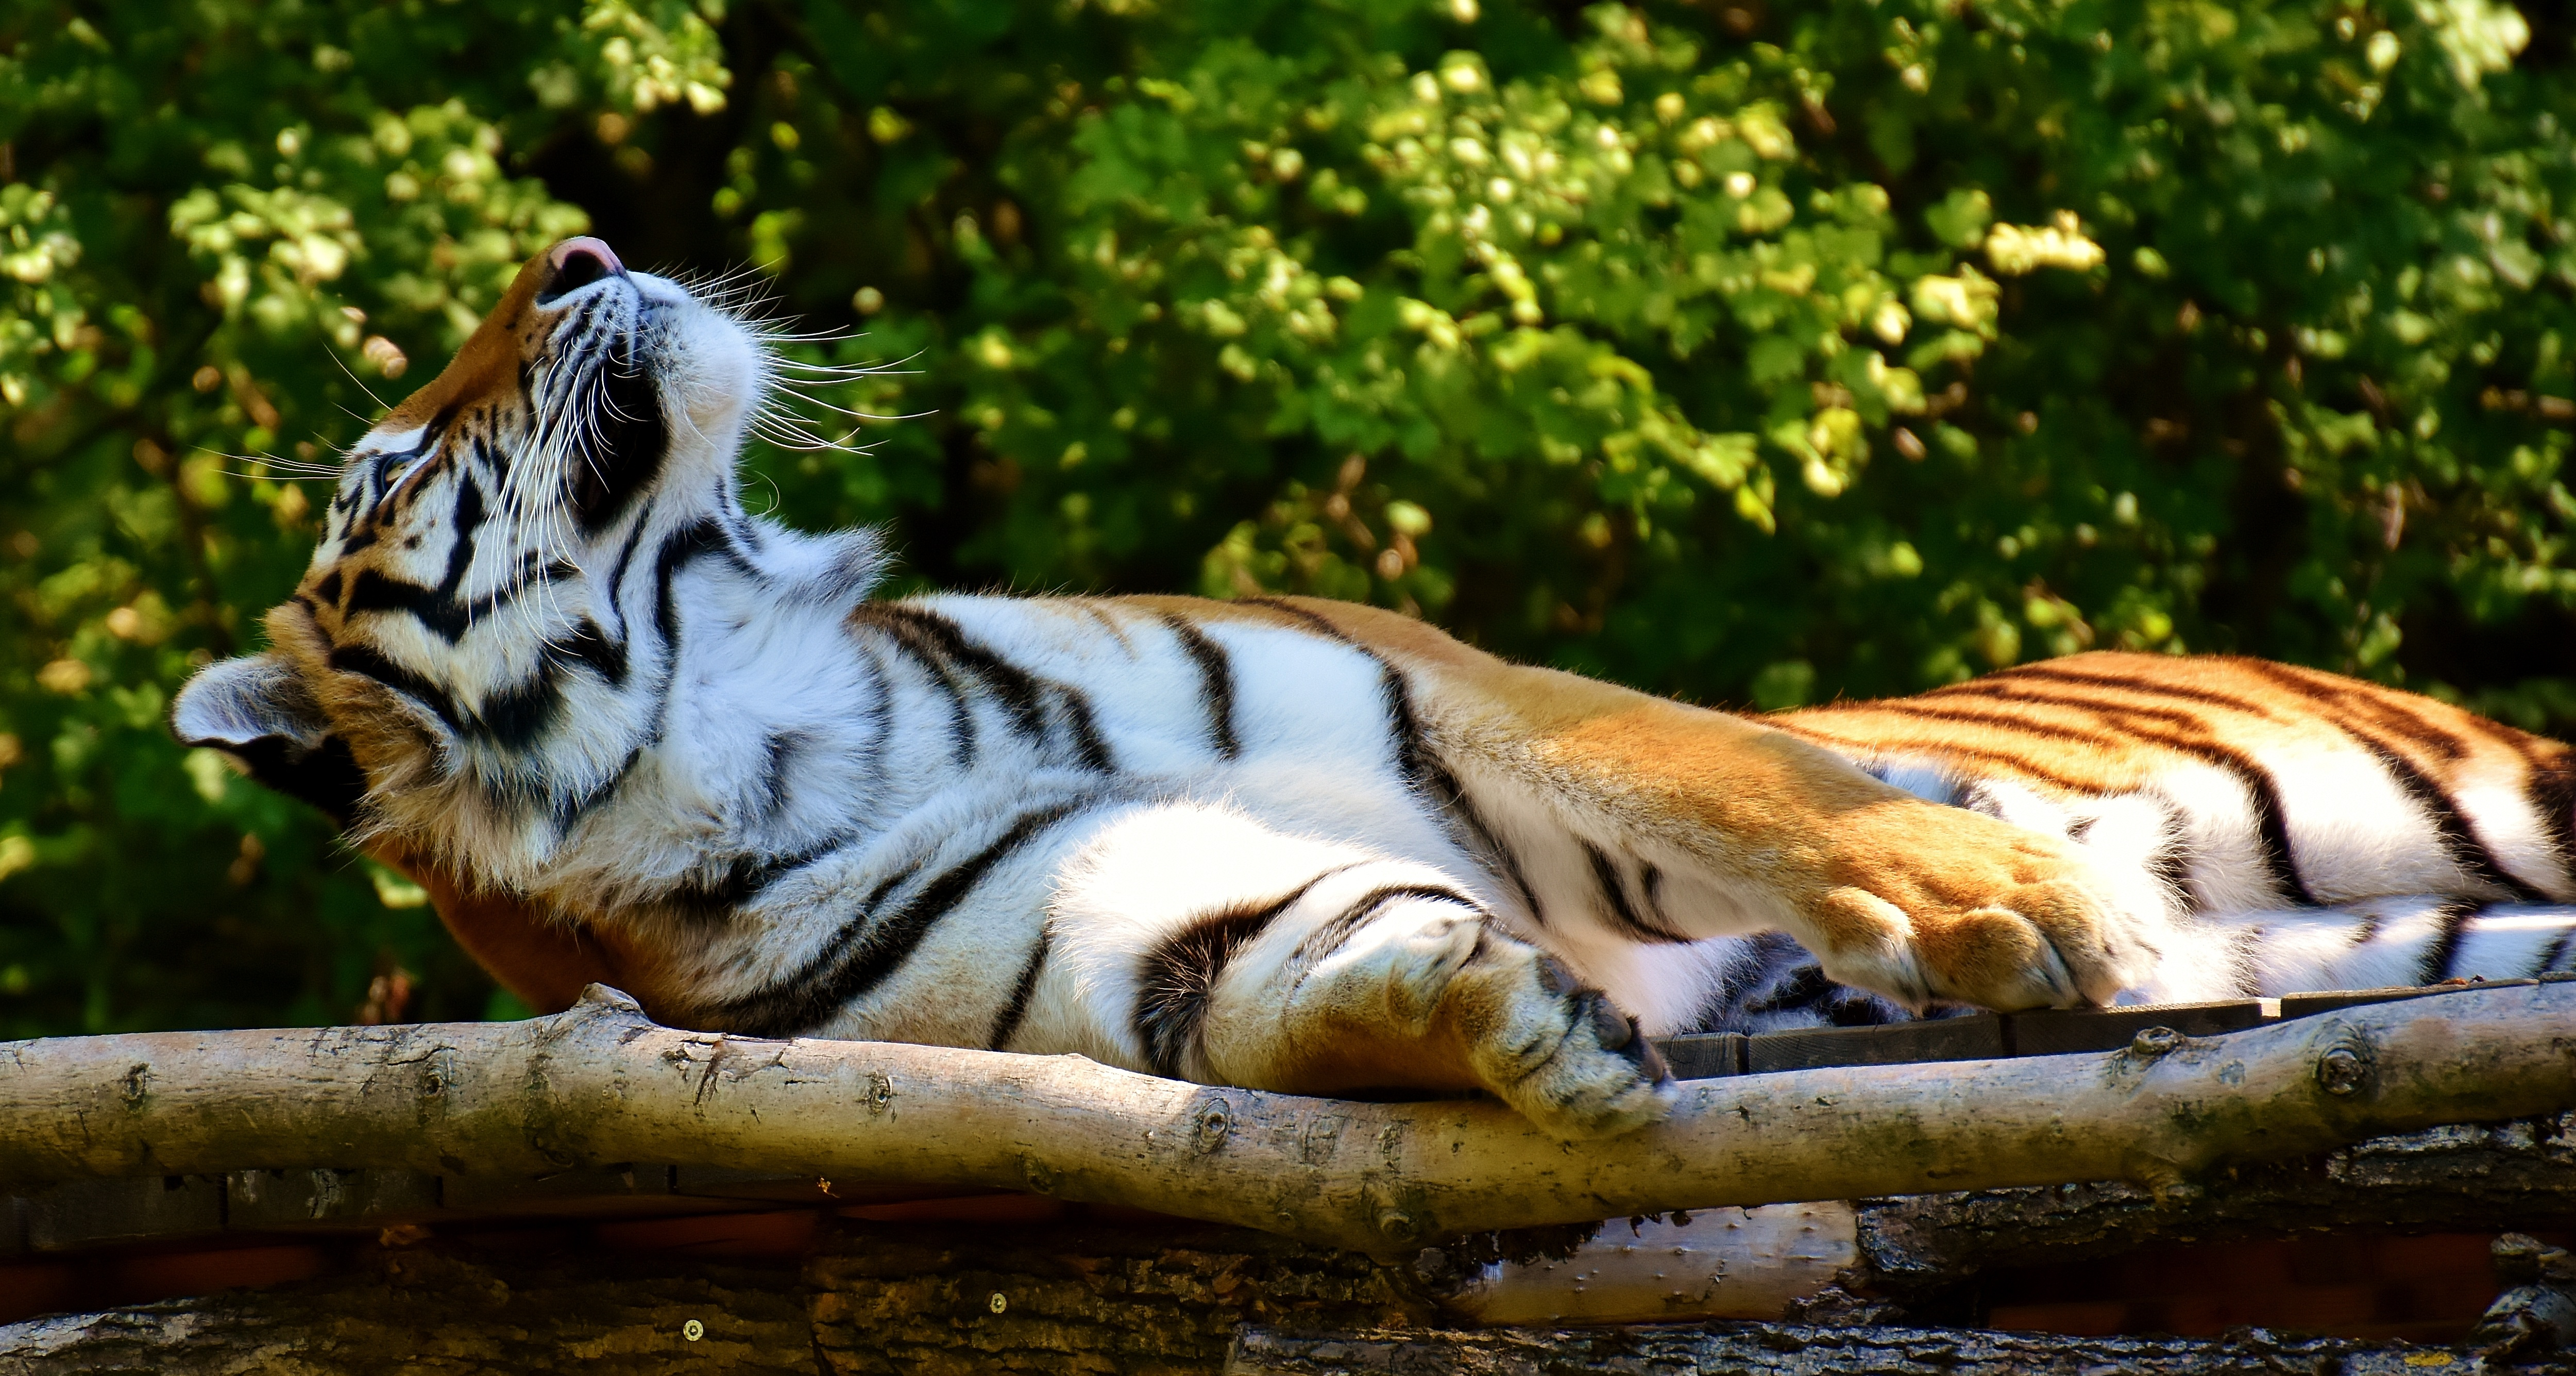tiger: (198, 242, 2550, 1139)
